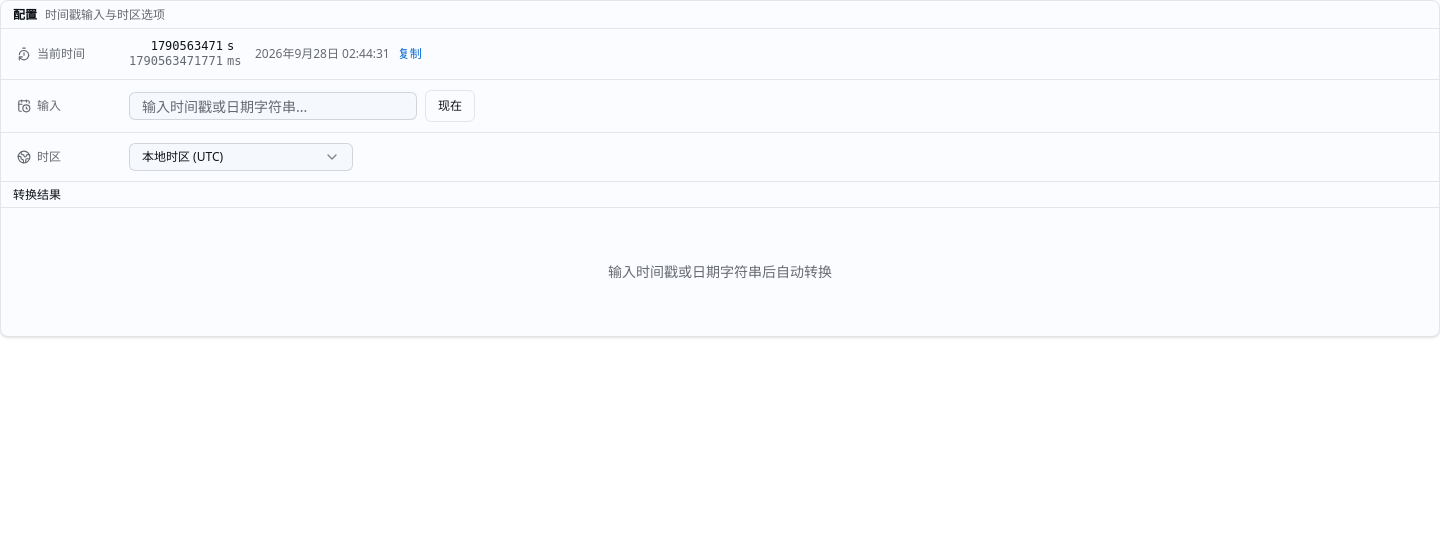
Test: TimestampConverter › 旧后端响应(缺新增字段)不崩溃:占位显示并回退英文相对时间
Type "1690272000" into the field with test id "input" at coordinates (273, 106), box [129,92,417,120]
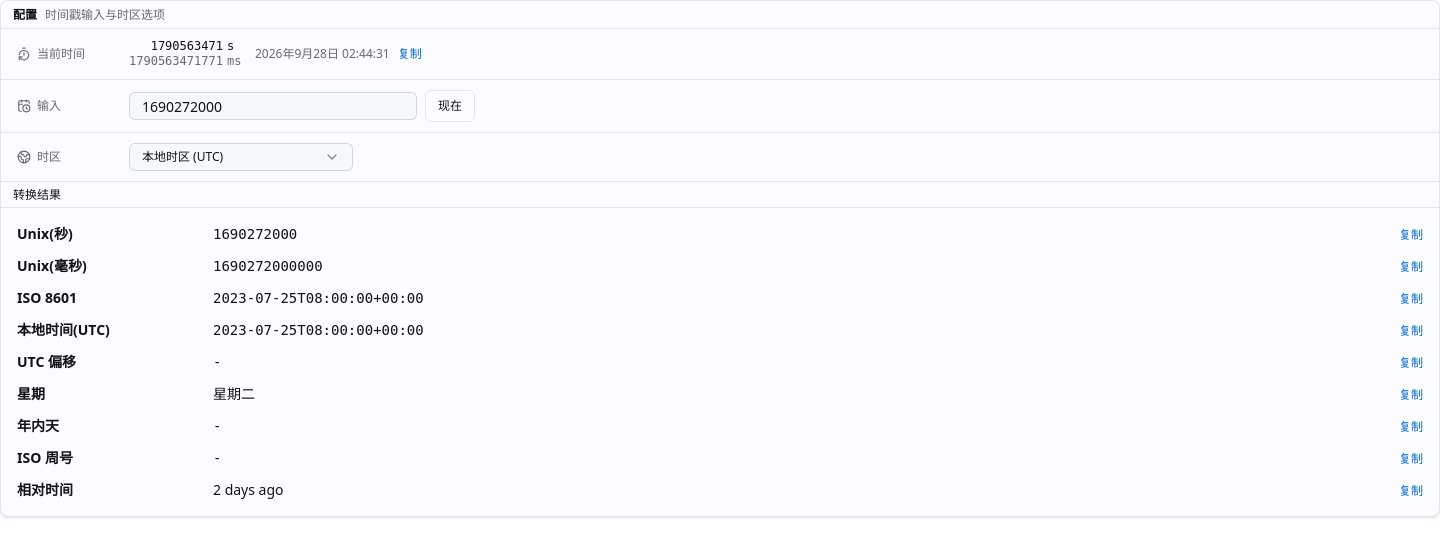
Expected: the 1st text "-" is shown, [213,354,221,370]
Now the text "2 days ago" is shown, box [213,480,284,499]
